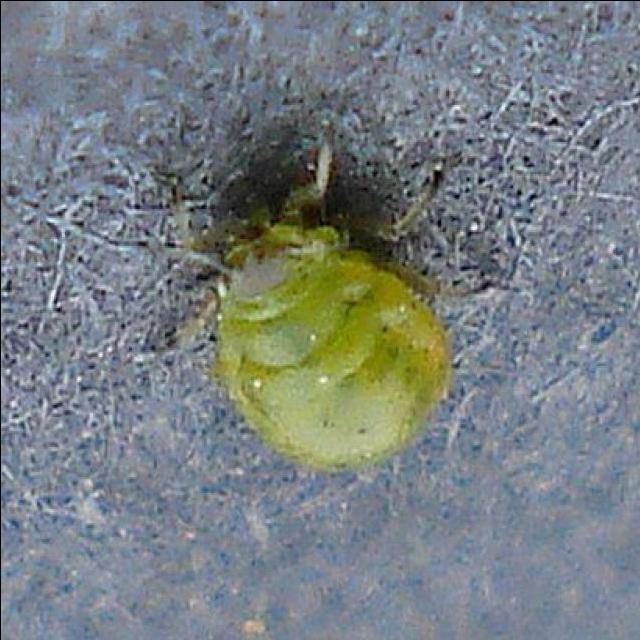aphid: (182, 182, 466, 482)
